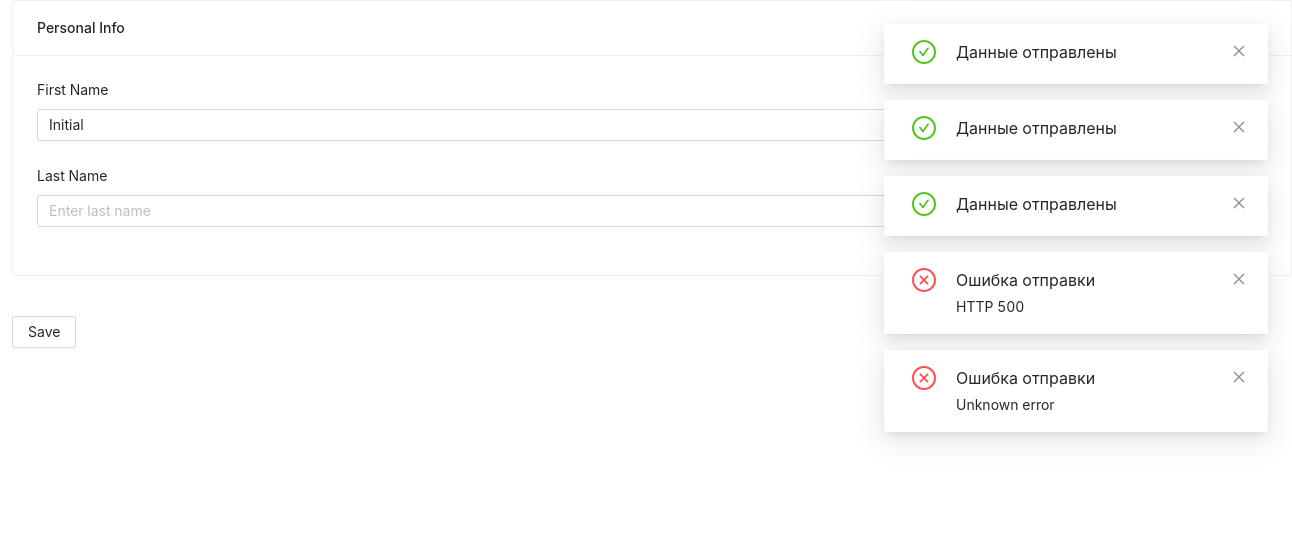
Test: FormGenerator › кнопка submit с fetch › должен сбрасывать форму после отправки когда resetAfterSubmit=true
Step 1. Replace the text in the field with placeholder "Enter first name" with "Changed" → point(652, 125), box 37,109 -> 1267,141
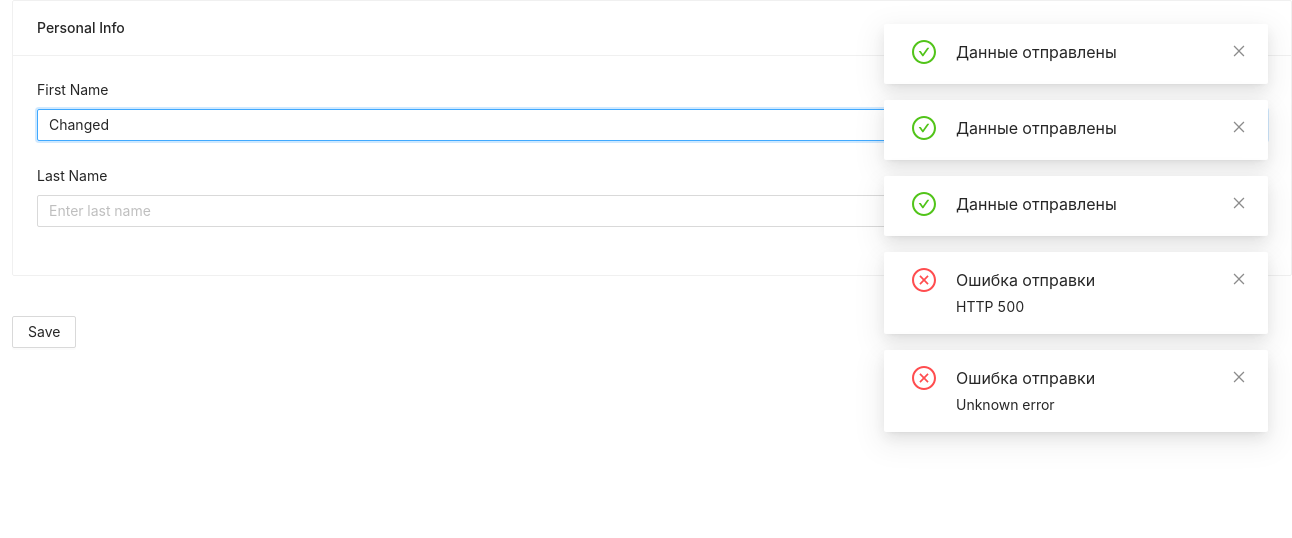
Step 2. Click the button "Save" → point(44, 332), box 12,316 -> 76,348
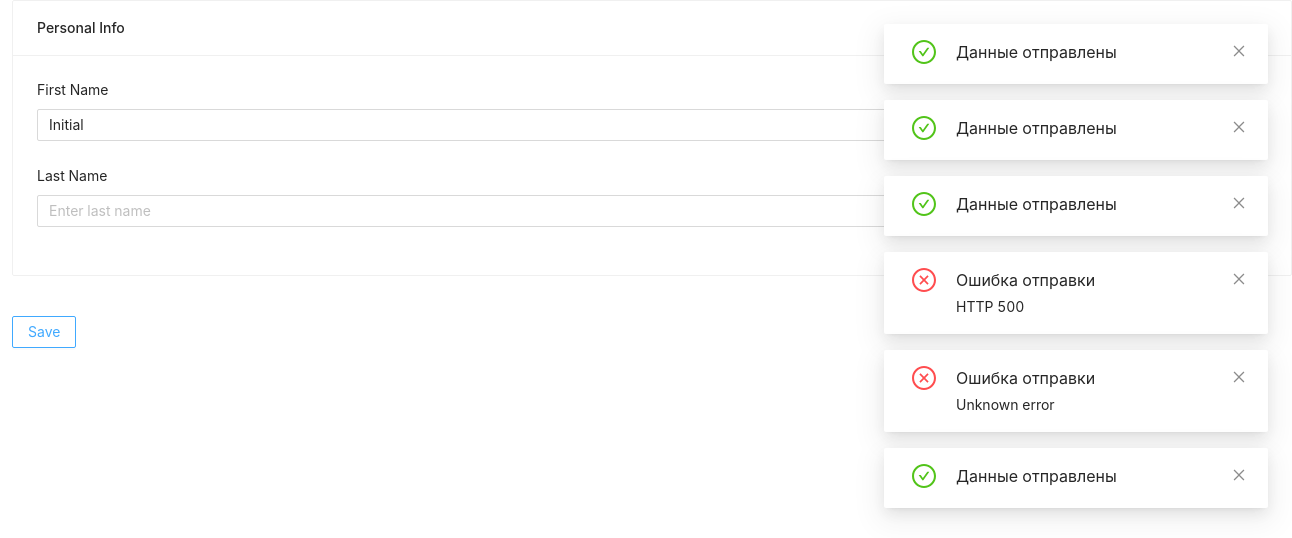
Check: the field with placeholder "Enter first name" holds "Initial", box 37,109 -> 1267,141
